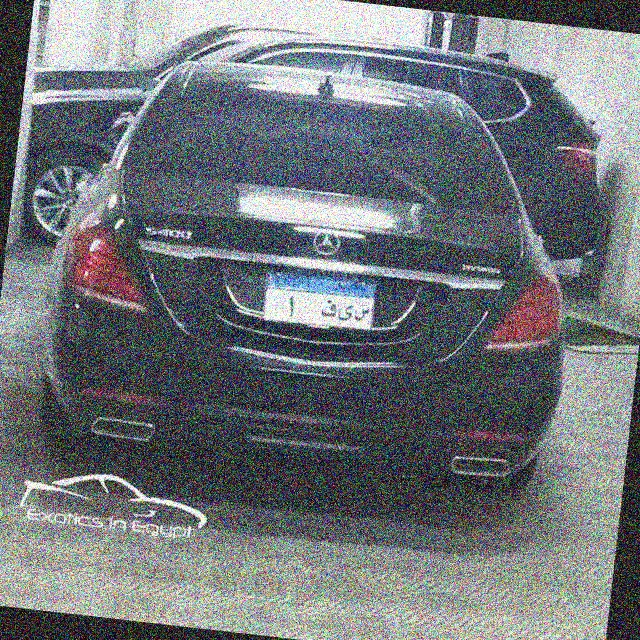License Plate: (256, 263, 383, 336)
